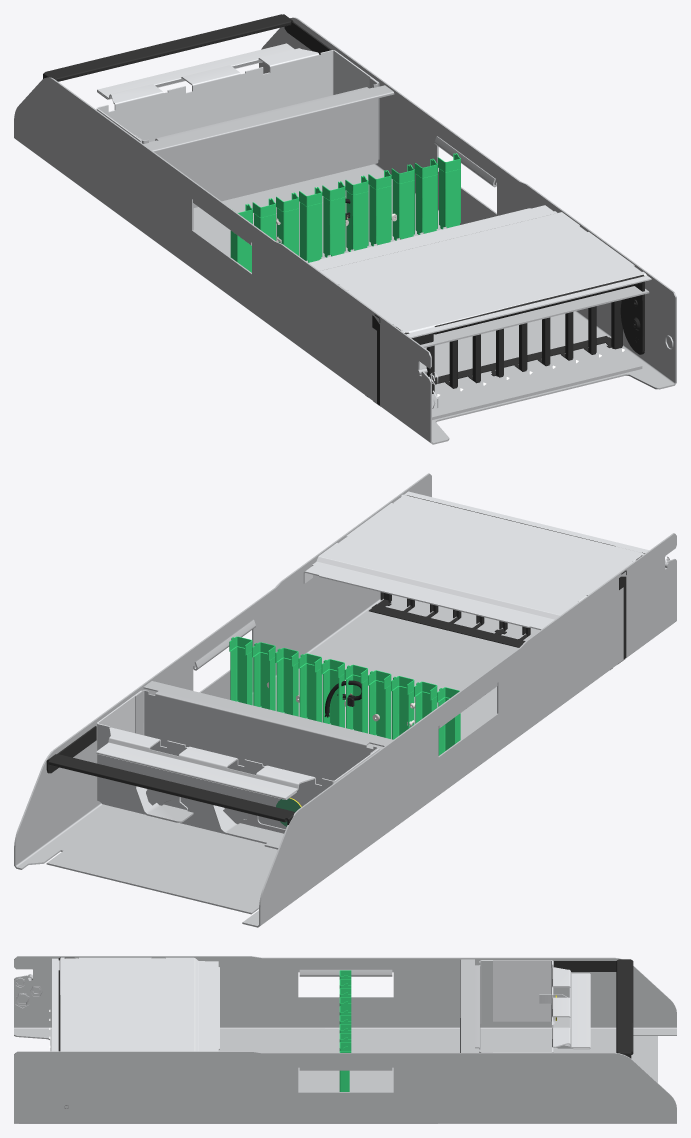
The model's file is cosmo-ext-1.glb.
The picture shows the model from 3 angles, top to bottom: view 1: azimuth 30°, elevation 25°; view 2: azimuth 150°, elevation 25°; view 3: azimuth 270°, elevation 25°; orthographic projection. The views are drawn at different scales.
Visible parts, largest first — view 1: Frame_low.004_block.002, Plane.030, FHMS M3x6 NYPA.016; view 2: Frame_low.004_block.002, Plane.030, FHMS M3x6 NYPA.016; view 3: Frame_low.004_block.002, FHMS M3x6 NYPA.016, Plane.030.
Part boxes in pixels (x1=…): Frame_low.004_block.002: x1=14, y1=17, x2=676, y2=444; Plane.030: x1=230, y1=153, x2=460, y2=272; FHMS M3x6 NYPA.016: x1=43, y1=14, x2=644, y2=406; Frame_low.004_block.002: x1=14, y1=473, x2=676, y2=927; Plane.030: x1=229, y1=636, x2=460, y2=755; FHMS M3x6 NYPA.016: x1=46, y1=495, x2=644, y2=824; Frame_low.004_block.002: x1=14, y1=956, x2=676, y2=1123; FHMS M3x6 NYPA.016: x1=58, y1=957, x2=633, y2=1108; Plane.030: x1=339, y1=970, x2=351, y2=1091.
Size of the model in its own units: 8713 by 3041 by 25061.
